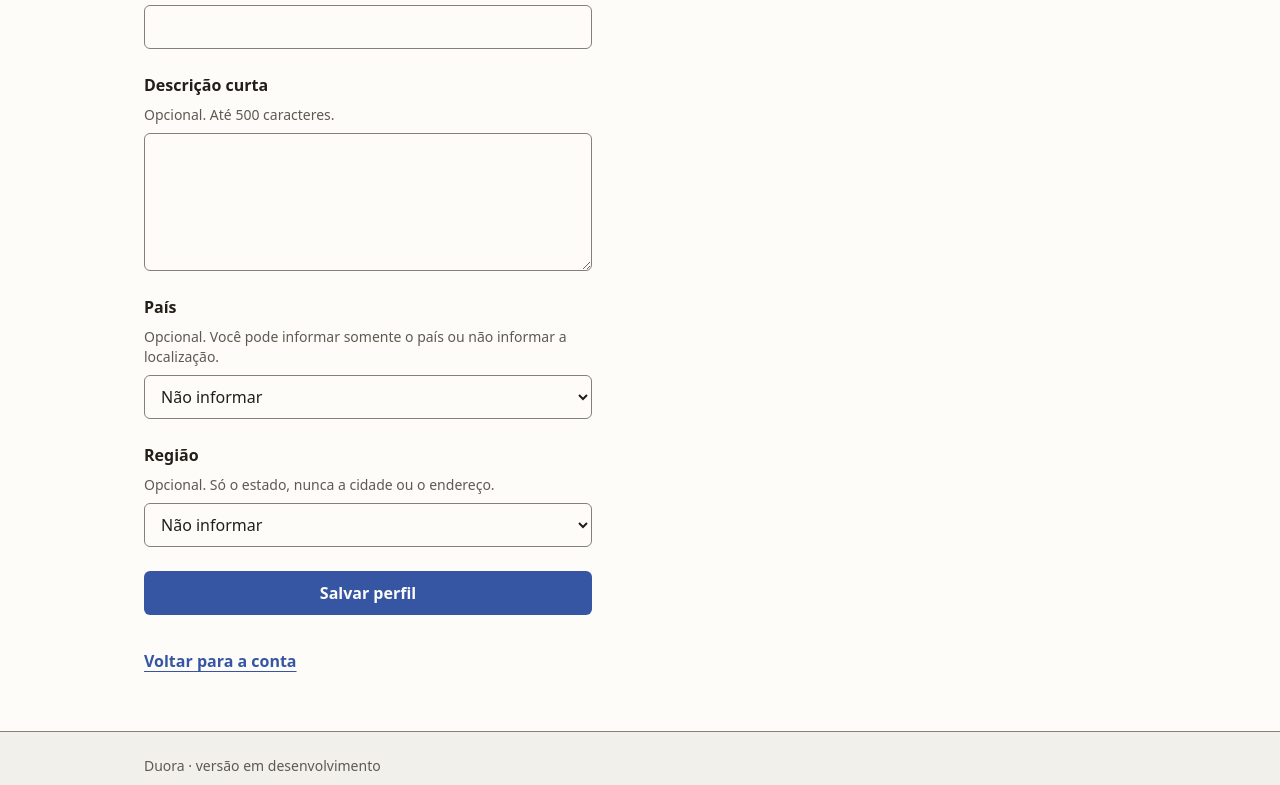
Scenario: perfil: edição › valida no navegador antes de enviar
(page scrolled)
Check: the field labelled "Nome de exibição" is shown, box [144,5,592,49]
Click the button "Salvar perfil" at (368, 593), box [144,571,592,615]
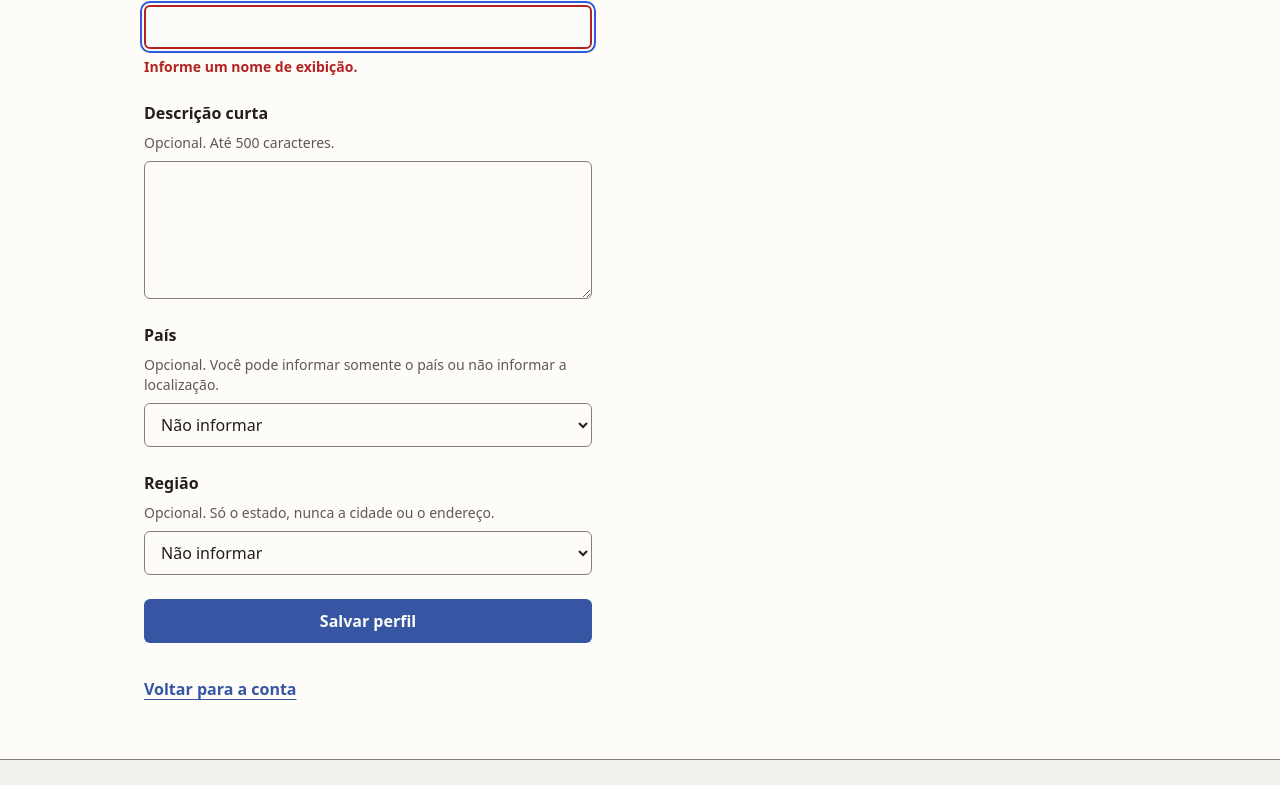
Check: the text "Informe um nome de exibição." is shown, box [144,57,357,76]
